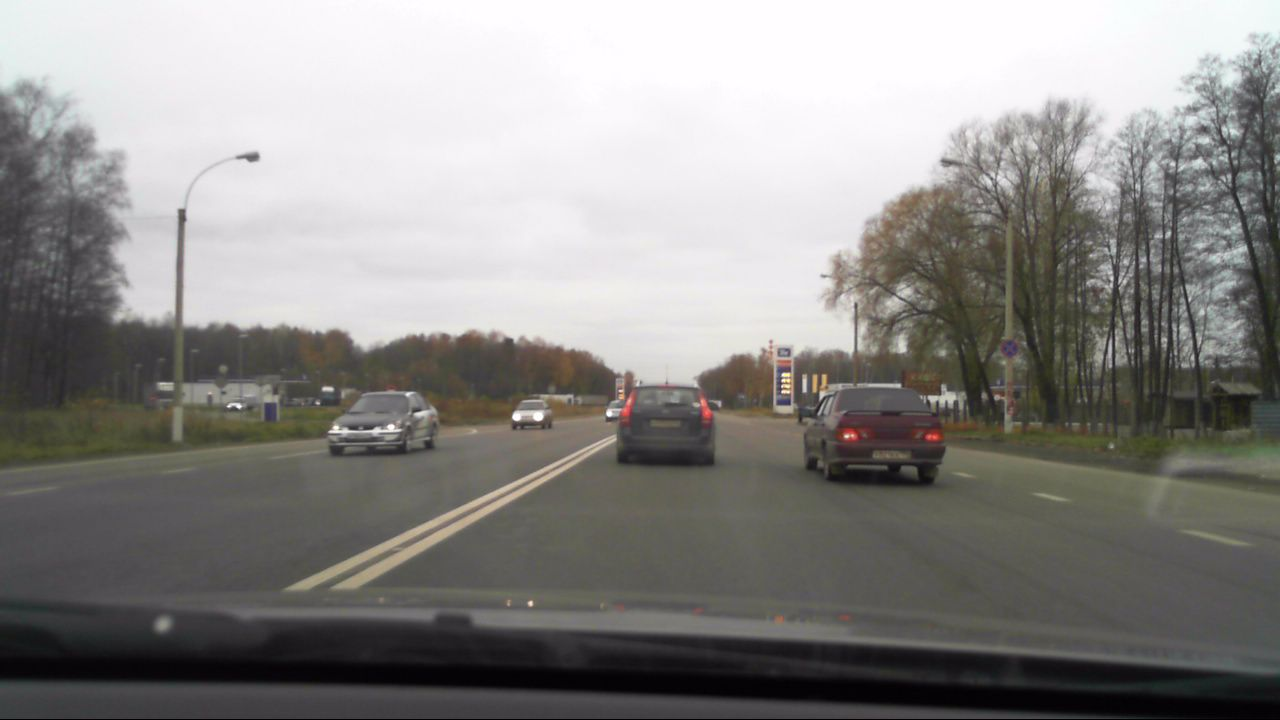No Parking: (997, 337, 1019, 356)
